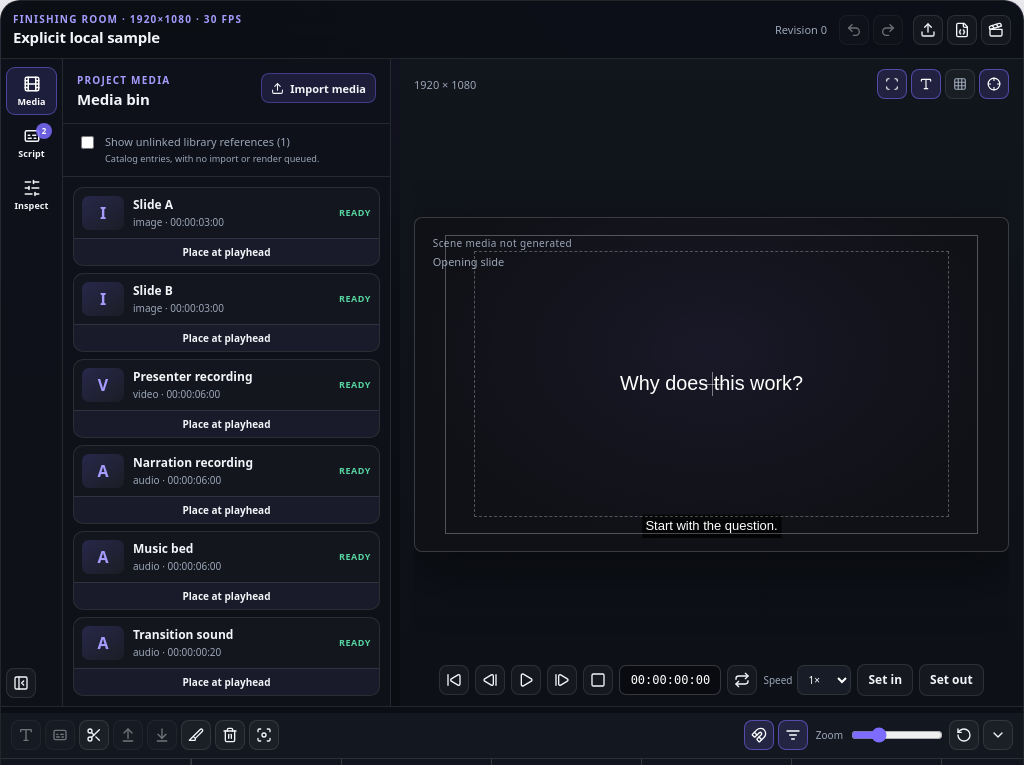
Scenario: AdvancedVideoEditor › keeps unused catalog references out of project media without losing them
Expected: the text "Unlinked catalog presenter" is not shown
Click the checkbox labelled "Show unlinked library references": x=88, y=142 left=81, top=136, right=94, bottom=149
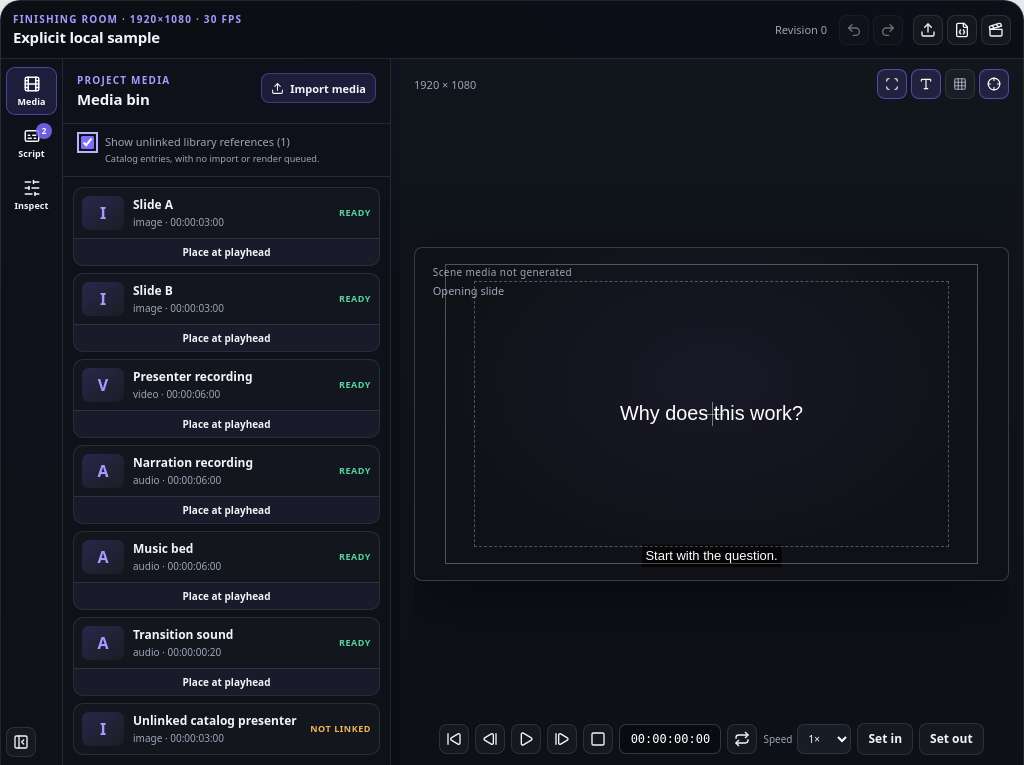
Result: the text "Unlinked catalog presenter" is shown at left=133, top=712, right=301, bottom=729
Result: the text "Not linked" is shown at left=310, top=722, right=371, bottom=735
